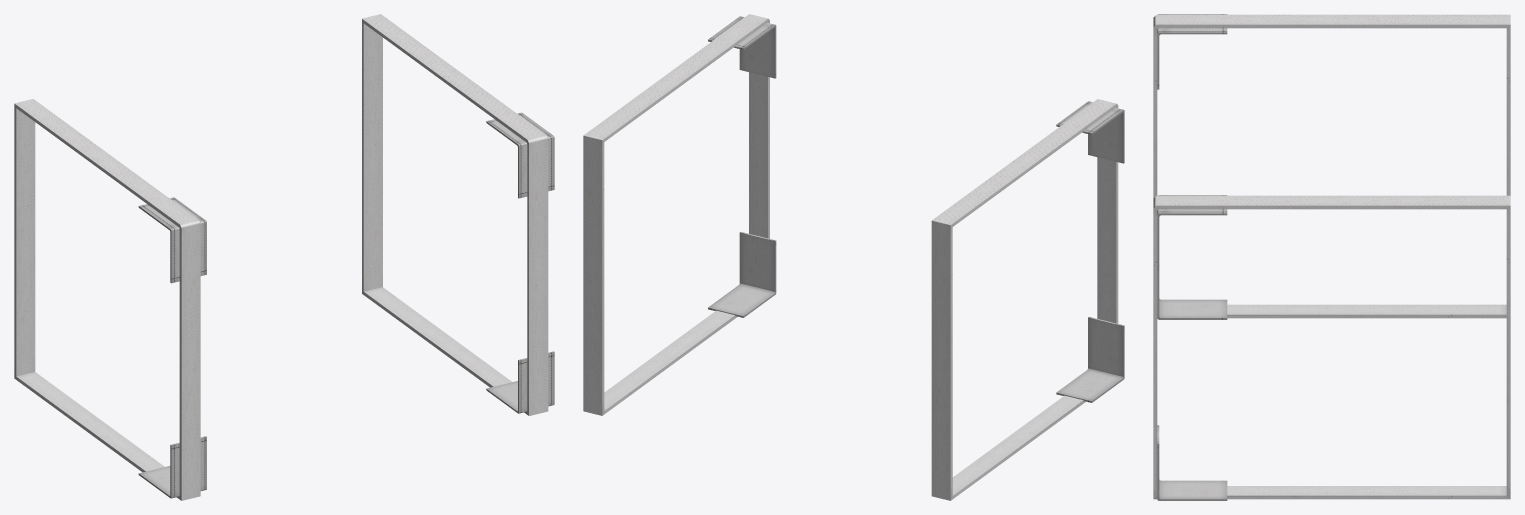
The model's file is SlingBelt.fbx.
The picture shows the model from 3 angles, left to right: view 1: azimuth 30°, elevation 25°; view 2: azimuth 150°, elevation 25°; view 3: azimuth 270°, elevation 25°; orthographic projection. The views are drawn at different scales.
Parts seen in each view (by area): view 1: Slingbelt; view 2: Slingbelt; view 3: Slingbelt.
Part boxes in pixels (left/top/right/bottom): Slingbelt: left=14, top=14, right=554, bottom=500; Slingbelt: left=583, top=14, right=1124, bottom=500; Slingbelt: left=1153, top=14, right=1510, bottom=500.
Size of the model in its own units: 117 by 80.57 by 88.76.
